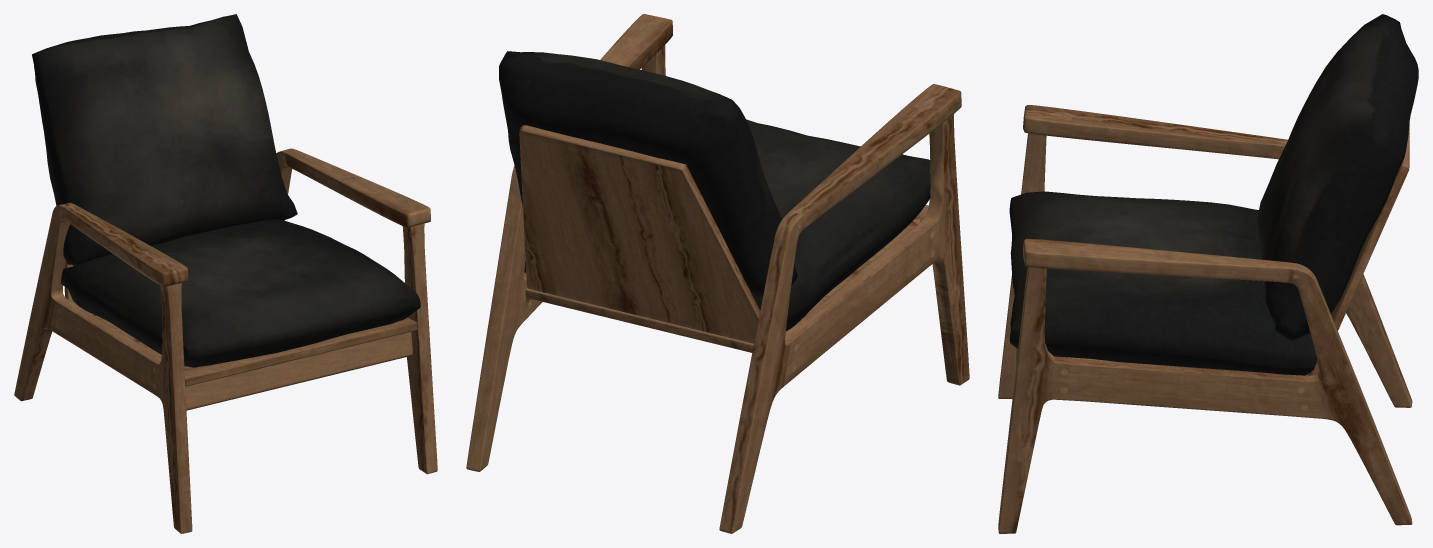
Rendered from modern_arm_chair_01.glb.
3 views of the same model, side by side, from view 1: azimuth 30°, elevation 25°; view 2: azimuth 150°, elevation 25°; view 3: azimuth 270°, elevation 25° (orthographic). The views are drawn at different scales.
Parts seen in each view (by area): view 1: modern_arm_chair_01; view 2: modern_arm_chair_01; view 3: modern_arm_chair_01.
Part boxes in pixels (left/top/right/bottom): modern_arm_chair_01: left=14, top=14, right=437, bottom=533; modern_arm_chair_01: left=466, top=14, right=969, bottom=533; modern_arm_chair_01: left=998, top=14, right=1418, bottom=533.
Size of the model in its own units: 0.8203 by 1.02 by 0.9865.
2 materials, 2 textured.
